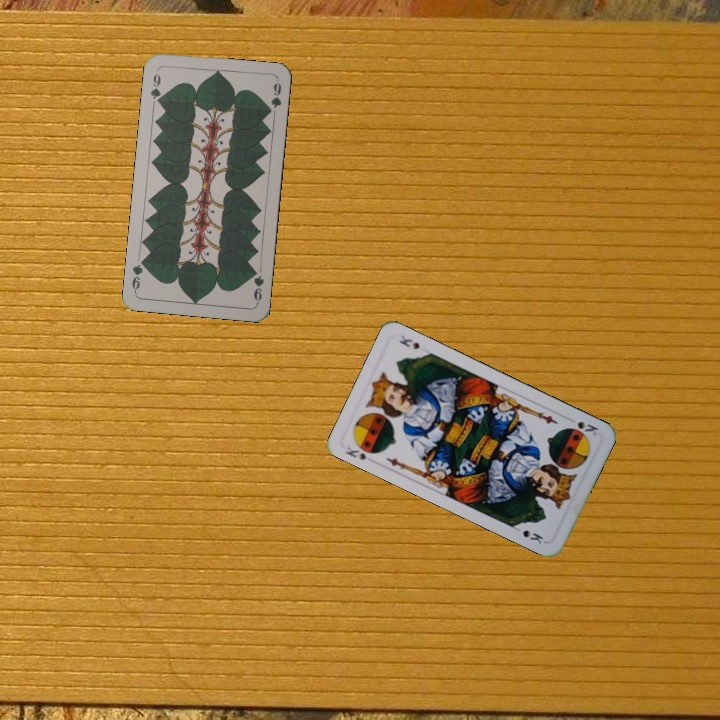G9: (248, 265, 266, 306), (146, 66, 164, 107)
SK: (566, 417, 601, 440), (342, 442, 369, 463)
